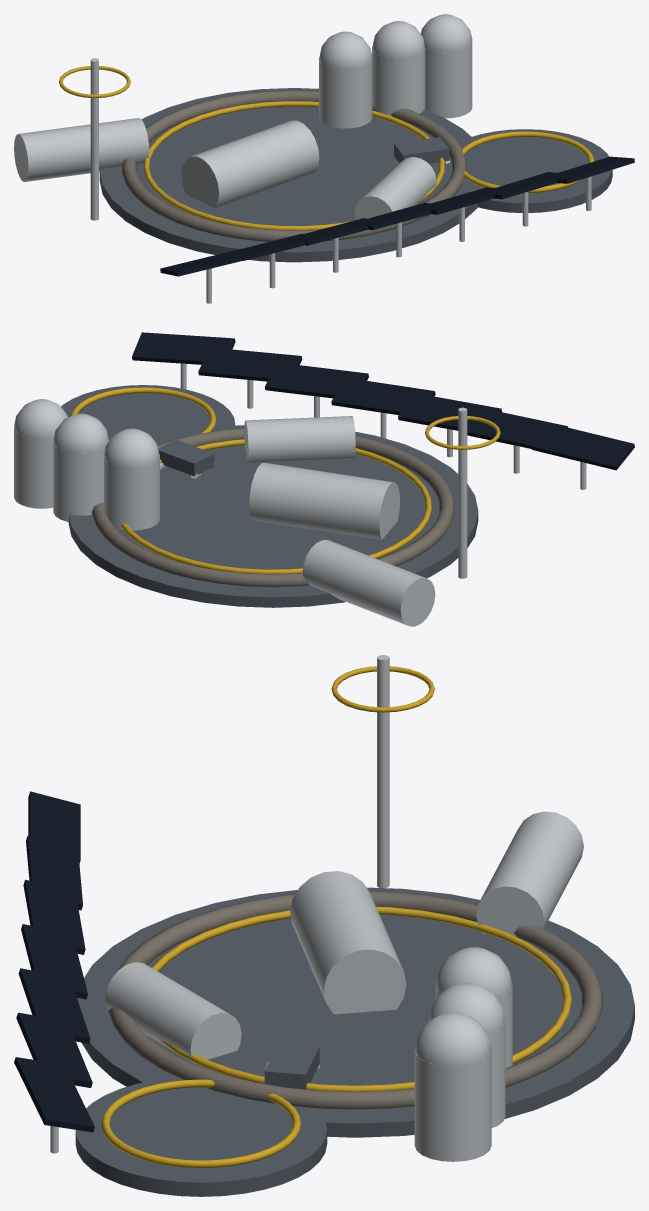
The model's file is hattusa.glb.
The picture shows the model from 3 angles, top to bottom: view 1: azimuth 30°, elevation 25°; view 2: azimuth 150°, elevation 25°; view 3: azimuth 270°, elevation 25°; orthographic projection. The views are drawn at different scales.
Parts seen in each view (by area): view 1: optimized lunar city glb; view 2: optimized lunar city glb; view 3: optimized lunar city glb.
Part boxes in pixels (x1=…): optimized lunar city glb: x1=14, y1=14, x2=634, y2=303; optimized lunar city glb: x1=14, y1=332, x2=634, y2=626; optimized lunar city glb: x1=14, y1=655, x2=634, y2=1196.
Size of the model in its own units: 2.29 by 0.7225 by 1.78.
